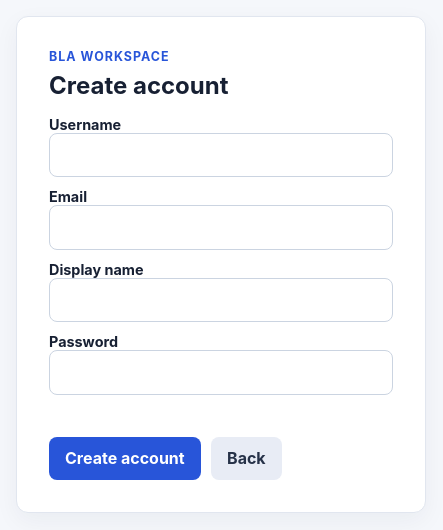
Test: RegistrationPage › validRegistration_ApiCreatesAccount_ShowsSuccess
Step 1. Type "new.user" into the field labelled "Username" → (221, 155), box [49, 133, 393, 177]
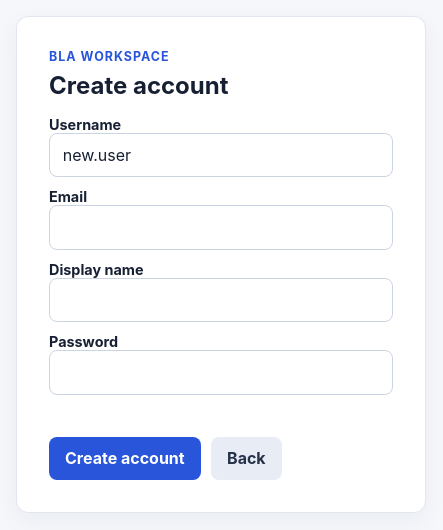
Step 2. Type "new@bla.local" into the field labelled "Email" → (221, 227), box [49, 205, 393, 250]
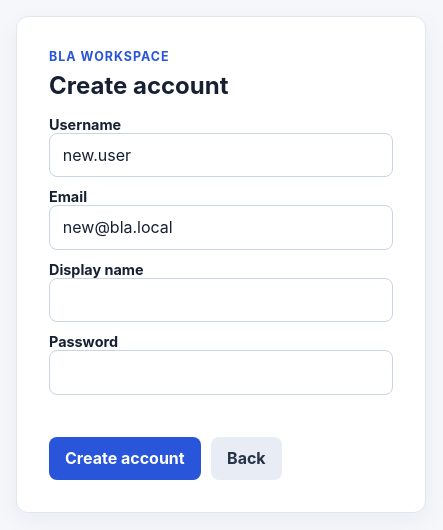
Step 3. Type "New User" into the field labelled "Display name" → (221, 300), box [49, 278, 393, 322]
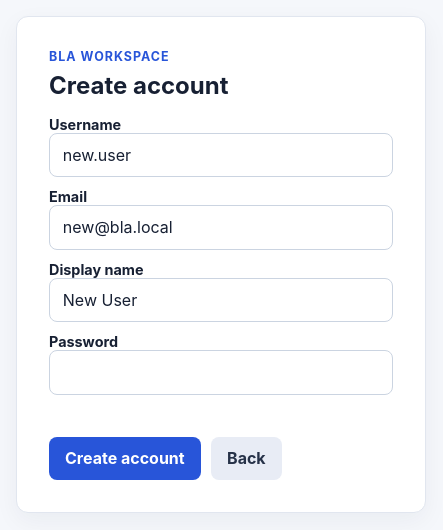
Step 4. Type "password" into the password field labelled "Password" → (221, 373), box [49, 350, 393, 395]
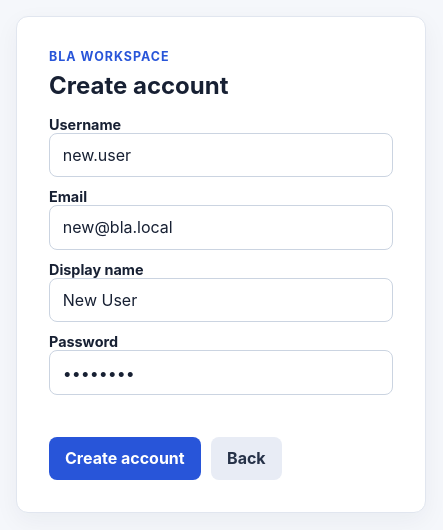
Step 5. Click the button "Create account" → (125, 458), box [49, 437, 201, 480]
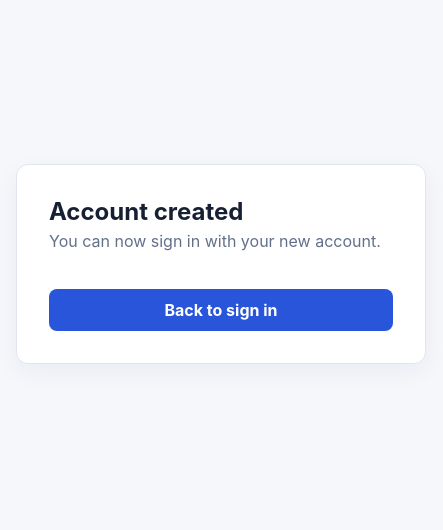
expect the heading "Account created" is shown: met, box [49, 197, 243, 226]
